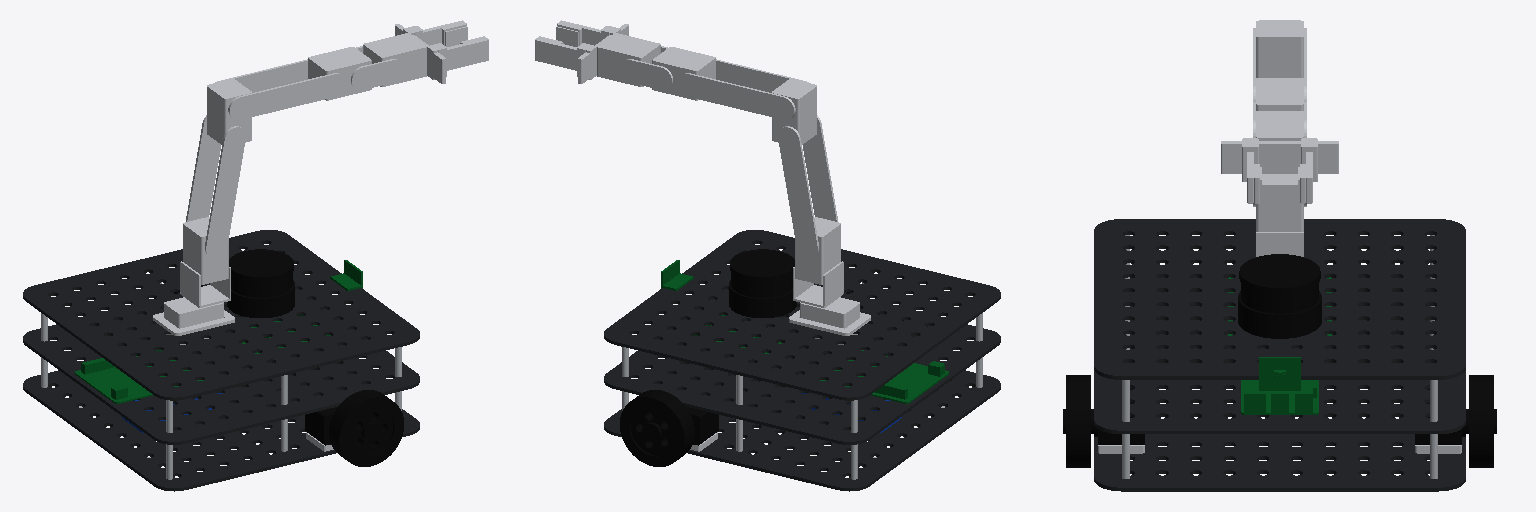
The robot description file, URDF, robot "turtlebot3_manipulation":
<?xml version="1.0"?>
<!--
  Mobile Manipulator: TurtleBot3 Waffle Pi + OpenMANIPULATOR-X
  Generated from the parametric SolidWorks 2025 model by tools/gen_urdf.py.
  Kinematics, joint limits, link/joint names and inertials are identical to the official
  ROBOTIS turtlebot3_manipulation_description (ROS 2 Humble); the meshes come from the
  parametric SolidWorks parts in 01_SolidWorks_2025.
-->
<robot name="turtlebot3_manipulation">
  <material name="frame"><color rgba="0.800 0.810 0.830 1"/></material>
  <material name="plate"><color rgba="0.160 0.170 0.180 1"/></material>
  <material name="pcb"><color rgba="0.050 0.380 0.160 1"/></material>
  <material name="blue"><color rgba="0.100 0.280 0.650 1"/></material>
  <material name="rubber"><color rgba="0.070 0.070 0.070 1"/></material>
  <material name="alu"><color rgba="0.720 0.740 0.760 1"/></material>

  <link name="base_footprint"/>

  <joint name="base_joint" type="fixed">
    <parent link="base_footprint"/>
    <child link="base_link"/>
    <origin xyz="0 0 0.01" rpy="0 0 0"/>
  </joint>

  <link name="base_link">
    <visual>
      <origin xyz="0 0 0" rpy="0 0 0"/>
      <geometry><mesh filename="package://tb3_omx_description/meshes/tb01_waffle_plate.stl"/></geometry>
      <material name="plate"/>
    </visual>
    <visual>
      <origin xyz="0 0 0.045" rpy="0 0 0"/>
      <geometry><mesh filename="package://tb3_omx_description/meshes/tb01_waffle_plate.stl"/></geometry>
      <material name="plate"/>
    </visual>
    <visual>
      <origin xyz="0 0 0.088" rpy="0 0 0"/>
      <geometry><mesh filename="package://tb3_omx_description/meshes/tb02_waffle_plate_top.stl"/></geometry>
      <material name="plate"/>
    </visual>
    <visual>
      <origin xyz="-0.18 -0.11 0.003" rpy="0 0 0"/>
      <geometry><mesh filename="package://tb3_omx_description/meshes/tb03_pcb_support_42.stl"/></geometry>
      <material name="alu"/>
    </visual>
    <visual>
      <origin xyz="-0.18 0.11 0.003" rpy="0 0 0"/>
      <geometry><mesh filename="package://tb3_omx_description/meshes/tb03_pcb_support_42.stl"/></geometry>
      <material name="alu"/>
    </visual>
    <visual>
      <origin xyz="-0.064 -0.11 0.003" rpy="0 0 0"/>
      <geometry><mesh filename="package://tb3_omx_description/meshes/tb03_pcb_support_42.stl"/></geometry>
      <material name="alu"/>
    </visual>
    <visual>
      <origin xyz="-0.064 0.11 0.003" rpy="0 0 0"/>
      <geometry><mesh filename="package://tb3_omx_description/meshes/tb03_pcb_support_42.stl"/></geometry>
      <material name="alu"/>
    </visual>
    <visual>
      <origin xyz="0.052 -0.11 0.003" rpy="0 0 0"/>
      <geometry><mesh filename="package://tb3_omx_description/meshes/tb03_pcb_support_42.stl"/></geometry>
      <material name="alu"/>
    </visual>
    <visual>
      <origin xyz="0.052 0.11 0.003" rpy="0 0 0"/>
      <geometry><mesh filename="package://tb3_omx_description/meshes/tb03_pcb_support_42.stl"/></geometry>
      <material name="alu"/>
    </visual>
    <visual>
      <origin xyz="-0.18 -0.11 0.048" rpy="0 0 0"/>
      <geometry><mesh filename="package://tb3_omx_description/meshes/tb04_pcb_support_40.stl"/></geometry>
      <material name="alu"/>
    </visual>
    <visual>
      <origin xyz="-0.18 0.11 0.048" rpy="0 0 0"/>
      <geometry><mesh filename="package://tb3_omx_description/meshes/tb04_pcb_support_40.stl"/></geometry>
      <material name="alu"/>
    </visual>
    <visual>
      <origin xyz="-0.064 -0.11 0.048" rpy="0 0 0"/>
      <geometry><mesh filename="package://tb3_omx_description/meshes/tb04_pcb_support_40.stl"/></geometry>
      <material name="alu"/>
    </visual>
    <visual>
      <origin xyz="-0.064 0.11 0.048" rpy="0 0 0"/>
      <geometry><mesh filename="package://tb3_omx_description/meshes/tb04_pcb_support_40.stl"/></geometry>
      <material name="alu"/>
    </visual>
    <visual>
      <origin xyz="0.052 -0.11 0.048" rpy="0 0 0"/>
      <geometry><mesh filename="package://tb3_omx_description/meshes/tb04_pcb_support_40.stl"/></geometry>
      <material name="alu"/>
    </visual>
    <visual>
      <origin xyz="0.052 0.11 0.048" rpy="0 0 0"/>
      <geometry><mesh filename="package://tb3_omx_description/meshes/tb04_pcb_support_40.stl"/></geometry>
      <material name="alu"/>
    </visual>
    <visual>
      <origin xyz="-0.012 0.1135 0.023" rpy="-1.570796 0 0"/>
      <geometry><mesh filename="package://tb3_omx_description/meshes/tb05_dynamixel_xm430_w210.stl"/></geometry>
      <material name="rubber"/>
    </visual>
    <visual>
      <origin xyz="-0.012 -0.1135 0.023" rpy="1.570796 0 0"/>
      <geometry><mesh filename="package://tb3_omx_description/meshes/tb05_dynamixel_xm430_w210.stl"/></geometry>
      <material name="rubber"/>
    </visual>
    <visual>
      <origin xyz="-0.012 0.1135 0.003" rpy="0 0 0"/>
      <geometry><mesh filename="package://tb3_omx_description/meshes/tb06_motor_bracket.stl"/></geometry>
      <material name="frame"/>
    </visual>
    <visual>
      <origin xyz="-0.012 -0.1135 0.003" rpy="0 0 0"/>
      <geometry><mesh filename="package://tb3_omx_description/meshes/tb06_motor_bracket.stl"/></geometry>
      <material name="frame"/>
    </visual>
    <visual>
      <origin xyz="-0.11 0 0.003" rpy="0 0 0"/>
      <geometry><mesh filename="package://tb3_omx_description/meshes/tb07_lipo_battery.stl"/></geometry>
      <material name="blue"/>
    </visual>
    <visual>
      <origin xyz="-0.14 0 0.048" rpy="0 0 0"/>
      <geometry><mesh filename="package://tb3_omx_description/meshes/tb08_opencr_board.stl"/></geometry>
      <material name="pcb"/>
    </visual>
    <visual>
      <origin xyz="0 0 0.048" rpy="0 0 0"/>
      <geometry><mesh filename="package://tb3_omx_description/meshes/tb09_raspberry_pi_4.stl"/></geometry>
      <material name="pcb"/>
    </visual>
    <visual>
      <origin xyz="-0.177 0.064 0" rpy="0 0 0"/>
      <geometry><mesh filename="package://tb3_omx_description/meshes/tb10_ball_caster.stl"/></geometry>
      <material name="alu"/>
    </visual>
    <visual>
      <origin xyz="-0.177 -0.064 0" rpy="0 0 0"/>
      <geometry><mesh filename="package://tb3_omx_description/meshes/tb10_ball_caster.stl"/></geometry>
      <material name="alu"/>
    </visual>
    <visual>
      <origin xyz="0 0 0" rpy="0 0 0"/>
      <geometry><mesh filename="package://tb3_omx_description/meshes/tb11_pi_camera.stl"/></geometry>
      <material name="pcb"/>
    </visual>
    <collision>
      <origin xyz="-0.064 0 0.047" rpy="0 0 0"/>
      <geometry><box size="0.266 0.266 0.094"/></geometry>
    </collision>
    <inertial>
      <origin xyz="0 0 0" rpy="0 0 0"/>
      <mass value="1.37291"/>
      <inertia ixx="0.00870027" ixy="-4.75766e-05" ixz="0.000111605" iyy="0.00861954" iyz="-3.54223e-06" izz="0.0146127"/>
    </inertial>
  </link>

  <joint name="wheel_left_joint" type="continuous">
    <parent link="base_link"/>
    <child link="wheel_left_link"/>
    <origin xyz="0 0.144 0.023" rpy="-1.57 0 0"/>
    <axis xyz="0 0 1"/>
  </joint>

  <link name="wheel_left_link">
    <visual>
      <origin xyz="0 0 0" rpy="0 0 0"/>
      <geometry><mesh filename="package://tb3_omx_description/meshes/tb13_wheel.stl"/></geometry>
      <material name="rubber"/>
    </visual>
    <collision>
      <origin xyz="0 0 0" rpy="0 0 0"/>
      <geometry><cylinder length="0.018" radius="0.033"/></geometry>
    </collision>
    <inertial>
      <origin xyz="0 0 0" rpy="0 0 0"/>
      <mass value="0.0284989"/>
      <inertia ixx="1.11756e-05" ixy="-4.23698e-11" ixz="-5.93817e-09" iyy="1.11924e-05" iyz="-1.44001e-11" izz="2.07126e-05"/>
    </inertial>
  </link>

  <joint name="wheel_right_joint" type="continuous">
    <parent link="base_link"/>
    <child link="wheel_right_link"/>
    <origin xyz="0 -0.144 0.023" rpy="-1.57 0 0"/>
    <axis xyz="0 0 1"/>
  </joint>

  <link name="wheel_right_link">
    <visual>
      <origin xyz="0 0 0" rpy="0 0 0"/>
      <geometry><mesh filename="package://tb3_omx_description/meshes/tb13_wheel.stl"/></geometry>
      <material name="rubber"/>
    </visual>
    <collision>
      <origin xyz="0 0 0" rpy="0 0 0"/>
      <geometry><cylinder length="0.018" radius="0.033"/></geometry>
    </collision>
    <inertial>
      <origin xyz="0 0 0" rpy="0 0 0"/>
      <mass value="0.0284989"/>
      <inertia ixx="1.11756e-05" ixy="-4.23698e-11" ixz="-5.93817e-09" iyy="1.11924e-05" iyz="-1.44001e-11" izz="2.07126e-05"/>
    </inertial>
  </link>

  <joint name="caster_back_right_joint" type="fixed">
    <parent link="base_link"/>
    <child link="caster_back_right_link"/>
    <origin xyz="-0.177 -0.064 -0.004" rpy="-1.57 0 0"/>
  </joint>

  <link name="caster_back_right_link">
    <collision>
      <origin xyz="0 0.001 0" rpy="0 0 0"/>
      <geometry><box size="0.030 0.009 0.020"/></geometry>
    </collision>
    <inertial>
      <origin xyz="0 0 0" rpy="0 0 0"/>
      <mass value="0.005"/>
      <inertia ixx="0.001" ixy="0" ixz="0" iyy="0.001" iyz="0" izz="0.001"/>
    </inertial>
  </link>

  <joint name="caster_back_left_joint" type="fixed">
    <parent link="base_link"/>
    <child link="caster_back_left_link"/>
    <origin xyz="-0.177 0.064 -0.004" rpy="-1.57 0 0"/>
  </joint>

  <link name="caster_back_left_link">
    <collision>
      <origin xyz="0 0.001 0" rpy="0 0 0"/>
      <geometry><box size="0.030 0.009 0.020"/></geometry>
    </collision>
    <inertial>
      <origin xyz="0 0 0" rpy="0 0 0"/>
      <mass value="0.005"/>
      <inertia ixx="0.001" ixy="0" ixz="0" iyy="0.001" iyz="0" izz="0.001"/>
    </inertial>
  </link>

  <joint name="imu_joint" type="fixed">
    <parent link="base_link"/>
    <child link="imu_link"/>
    <origin xyz="0 0 0.068" rpy="0 0 0"/>
  </joint>

  <link name="imu_link"/>

  <joint name="scan_joint" type="fixed">
    <parent link="base_link"/>
    <child link="base_scan"/>
    <origin xyz="-0.024 0 0.122" rpy="0 0 0"/>
  </joint>

  <link name="base_scan">
    <visual>
      <origin xyz="0 0 0" rpy="0 0 0"/>
      <geometry><mesh filename="package://tb3_omx_description/meshes/tb12_lds01_lidar.stl"/></geometry>
      <material name="rubber"/>
    </visual>
    <collision>
      <origin xyz="0 0 -0.01125" rpy="0 0 0"/>
      <geometry><cylinder length="0.0395" radius="0.030"/></geometry>
    </collision>
    <inertial>
      <origin xyz="0 0 0" rpy="0 0 0"/>
      <mass value="0.114"/>
      <inertia ixx="0.001" ixy="0" ixz="0" iyy="0.001" iyz="0" izz="0.001"/>
    </inertial>
  </link>

  <joint name="camera_joint" type="fixed">
    <parent link="base_link"/>
    <child link="camera_link"/>
    <origin xyz="0.073 -0.011 0.084" rpy="0 0 0"/>
  </joint>

  <link name="camera_link">
    <collision>
      <origin xyz="0.005 0.011 0.013" rpy="0 0 0"/>
      <geometry><box size="0.015 0.030 0.027"/></geometry>
    </collision>
  </link>

  <joint name="camera_rgb_joint" type="fixed">
    <parent link="camera_link"/>
    <child link="camera_rgb_frame"/>
    <origin xyz="0.003 0.011 0.009" rpy="0 0 0"/>
  </joint>

  <link name="camera_rgb_frame"/>

  <joint name="camera_rgb_optical_joint" type="fixed">
    <parent link="camera_rgb_frame"/>
    <child link="camera_rgb_optical_frame"/>
    <origin xyz="0 0 0" rpy="-1.57 0 -1.57"/>
  </joint>

  <link name="camera_rgb_optical_frame"/>

  <joint name="base_fixed" type="fixed">
    <parent link="base_link"/>
    <child link="link1"/>
    <origin xyz="-0.092 0 0.091" rpy="0 0 0"/>
  </joint>

  <link name="link1">
    <visual>
      <origin xyz="0 0 0" rpy="0 0 0"/>
      <geometry><mesh filename="package://tb3_omx_description/meshes/om01_link1.stl"/></geometry>
      <material name="frame"/>
    </visual>
    <collision>
      <origin xyz="0 0 0" rpy="0 0 0"/>
      <geometry><mesh filename="package://tb3_omx_description/meshes/om01_link1.stl"/></geometry>
    </collision>
    <inertial>
      <origin xyz="0.000309 0 -0.000122" rpy="0 0 0"/>
      <mass value="0.07912"/>
      <inertia ixx="1.25052e-05" ixy="0" ixz="-1.78552e-07" iyy="2.18984e-05" iyz="0" izz="1.92674e-05"/>
    </inertial>
  </link>

  <joint name="joint1" type="revolute">
    <parent link="link1"/>
    <child link="link2"/>
    <origin xyz="0.012 0 0.017" rpy="0 0 0"/>
    <axis xyz="0 0 1"/>
    <limit velocity="4.8" effort="1" lower="-2.827433" upper="2.827433"/>
    <dynamics damping="0.1"/>
  </joint>

  <link name="link2">
    <visual>
      <origin xyz="0 0 0" rpy="0 0 0"/>
      <geometry><mesh filename="package://tb3_omx_description/meshes/om02_link2.stl"/></geometry>
      <material name="frame"/>
    </visual>
    <collision>
      <origin xyz="0 0 0" rpy="0 0 0"/>
      <geometry><mesh filename="package://tb3_omx_description/meshes/om02_link2.stl"/></geometry>
    </collision>
    <inertial>
      <origin xyz="-0.000302 0.00054 0.047433" rpy="0 0 0"/>
      <mass value="0.0984068"/>
      <inertia ixx="3.45434e-05" ixy="-1.60311e-08" ixz="-3.83752e-07" iyy="3.26893e-05" iyz="2.85119e-08" izz="1.88503e-05"/>
    </inertial>
  </link>

  <joint name="joint2" type="revolute">
    <parent link="link2"/>
    <child link="link3"/>
    <origin xyz="0 0 0.0595" rpy="0 0 0"/>
    <axis xyz="0 1 0"/>
    <limit velocity="4.8" effort="1" lower="-1.790708" upper="1.570796"/>
    <dynamics damping="0.1"/>
  </joint>

  <link name="link3">
    <visual>
      <origin xyz="0 0 0" rpy="0 0 0"/>
      <geometry><mesh filename="package://tb3_omx_description/meshes/om03_link3.stl"/></geometry>
      <material name="frame"/>
    </visual>
    <collision>
      <origin xyz="0 0 0" rpy="0 0 0"/>
      <geometry><mesh filename="package://tb3_omx_description/meshes/om03_link3.stl"/></geometry>
    </collision>
    <inertial>
      <origin xyz="0.010308 0.000377 0.101702" rpy="0 0 0"/>
      <mass value="0.138509"/>
      <inertia ixx="0.000330554" ixy="-9.7941e-08" ixz="-3.85057e-05" iyy="0.000342904" iyz="-1.57175e-06" izz="6.03465e-05"/>
    </inertial>
  </link>

  <joint name="joint3" type="revolute">
    <parent link="link3"/>
    <child link="link4"/>
    <origin xyz="0.024 0 0.128" rpy="0 0 0"/>
    <axis xyz="0 1 0"/>
    <limit velocity="4.8" effort="1" lower="-0.942478" upper="1.382301"/>
    <dynamics damping="0.1"/>
  </joint>

  <link name="link4">
    <visual>
      <origin xyz="0 0 0" rpy="0 0 0"/>
      <geometry><mesh filename="package://tb3_omx_description/meshes/om04_link4.stl"/></geometry>
      <material name="frame"/>
    </visual>
    <collision>
      <origin xyz="0 0 0" rpy="0 0 0"/>
      <geometry><mesh filename="package://tb3_omx_description/meshes/om04_link4.stl"/></geometry>
    </collision>
    <inertial>
      <origin xyz="0.09091 0.000389 0.000224" rpy="0 0 0"/>
      <mass value="0.132746"/>
      <inertia ixx="3.06542e-05" ixy="-1.27642e-06" ixz="-2.68744e-07" iyy="0.000242303" iyz="1.15595e-08" izz="0.000251551"/>
    </inertial>
  </link>

  <joint name="joint4" type="revolute">
    <parent link="link4"/>
    <child link="link5"/>
    <origin xyz="0.124 0 0" rpy="0 0 0"/>
    <axis xyz="0 1 0"/>
    <limit velocity="4.8" effort="1" lower="-1.790708" upper="2.042035"/>
    <dynamics damping="0.1"/>
  </joint>

  <link name="link5">
    <visual>
      <origin xyz="0 0 0" rpy="0 0 0"/>
      <geometry><mesh filename="package://tb3_omx_description/meshes/om05_link5.stl"/></geometry>
      <material name="frame"/>
    </visual>
    <collision>
      <origin xyz="0 0 0" rpy="0 0 0"/>
      <geometry><mesh filename="package://tb3_omx_description/meshes/om05_link5.stl"/></geometry>
    </collision>
    <inertial>
      <origin xyz="0.044207 0 0.008914" rpy="0 0 0"/>
      <mass value="0.143276"/>
      <inertia ixx="8.08707e-05" ixy="0" ixz="-1.01579e-06" iyy="7.59805e-05" iyz="0" izz="9.31274e-05"/>
    </inertial>
  </link>

  <joint name="gripper_left_joint" type="prismatic">
    <parent link="link5"/>
    <child link="gripper_left_link"/>
    <origin xyz="0.0817 0.021 0" rpy="0 0 0"/>
    <axis xyz="0 1 0"/>
    <limit velocity="4.8" effort="1" lower="-0.01" upper="0.019"/>
    <dynamics damping="0.1"/>
  </joint>

  <link name="gripper_left_link">
    <visual>
      <origin xyz="0 0 0" rpy="0 0 0"/>
      <geometry><mesh filename="package://tb3_omx_description/meshes/om06_gripper_finger.stl"/></geometry>
      <material name="frame"/>
    </visual>
    <collision>
      <origin xyz="0 0 0" rpy="0 0 0"/>
      <geometry><mesh filename="package://tb3_omx_description/meshes/om06_gripper_finger.stl"/></geometry>
    </collision>
    <inertial>
      <origin xyz="0 0 0" rpy="0 0 0"/>
      <mass value="0.001"/>
      <inertia ixx="1e-06" ixy="0" ixz="0" iyy="1e-06" iyz="0" izz="1e-06"/>
    </inertial>
  </link>

  <joint name="gripper_right_joint_mimic" type="fixed">
    <parent link="link5"/>
    <child link="dummy_mimic_fix"/>
  </joint>
  <link name="dummy_mimic_fix"/>

  <joint name="gripper_right_joint" type="prismatic">
    <parent link="link5"/>
    <child link="gripper_right_link"/>
    <origin xyz="0.0817 -0.021 0" rpy="0 0 0"/>
    <axis xyz="0 -1 0"/>
    <limit velocity="4.8" effort="1" lower="-0.01" upper="0.019"/>
    <mimic joint="gripper_left_joint" multiplier="1"/>
    <dynamics damping="0.1"/>
  </joint>

  <link name="gripper_right_link">
    <visual>
      <origin xyz="0 0 0" rpy="3.141593 0 0"/>
      <geometry><mesh filename="package://tb3_omx_description/meshes/om06_gripper_finger.stl"/></geometry>
      <material name="frame"/>
    </visual>
    <collision>
      <origin xyz="0 0 0" rpy="3.141593 0 0"/>
      <geometry><mesh filename="package://tb3_omx_description/meshes/om06_gripper_finger.stl"/></geometry>
    </collision>
    <inertial>
      <origin xyz="0 0 0" rpy="0 0 0"/>
      <mass value="0.001"/>
      <inertia ixx="1e-06" ixy="0" ixz="0" iyy="1e-06" iyz="0" izz="1e-06"/>
    </inertial>
  </link>

  <joint name="end_effector_joint" type="fixed">
    <parent link="link5"/>
    <child link="end_effector_link"/>
    <origin xyz="0.126 0 0" rpy="0 0 0"/>
  </joint>

  <link name="end_effector_link"/>

</robot>

--- What the picture shows (computed from the rendered views, not written in the file) ---
Views: 3 orthographic renders of the robot side by side, from view 1: azimuth 30°, elevation 25°; view 2: azimuth 150°, elevation 25°; view 3: azimuth 270°, elevation 25°.
Model turtlebot3_manipulation with 20 links and 19 joints (4 revolute, 2 continuous, 2 prismatic, 11 fixed), rooted at base_footprint, posed all joints at 0.
Visible links, largest first — view 1: base_link, link3, link4, wheel_right_link, base_scan, link5, link2, link1, gripper_right_link, gripper_left_link; view 2: base_link, link3, link4, wheel_left_link, base_scan, link5, link2, link1, gripper_left_link, gripper_right_link; view 3: base_link, base_scan, link5, link2, link3, wheel_left_link, wheel_right_link, link4, gripper_left_link, gripper_right_link.
Boxes of the visible links, <box> form: base_link: <box>23,230,419,491</box>; link3: <box>186,79,251,257</box>; link4: <box>215,47,371,119</box>; wheel_right_link: <box>329,390,403,466</box>; base_scan: <box>227,249,294,317</box>; link5: <box>351,24,445,90</box>; link2: <box>180,217,230,307</box>; link1: <box>153,297,234,344</box>; gripper_right_link: <box>427,36,488,79</box>; gripper_left_link: <box>403,20,467,46</box>; base_link: <box>604,230,1000,491</box>; link3: <box>772,79,837,257</box>; link4: <box>652,47,808,119</box>; wheel_left_link: <box>620,390,694,466</box>; base_scan: <box>729,249,796,317</box>; link5: <box>578,24,672,90</box>; link2: <box>793,217,843,307</box>; link1: <box>789,297,870,344</box>; gripper_left_link: <box>535,36,596,79</box>; gripper_right_link: <box>556,20,620,46</box>; base_link: <box>1094,219,1465,491</box>; base_scan: <box>1238,254,1321,338</box>; link5: <box>1221,101,1338,173</box>; link2: <box>1256,174,1303,256</box>; link3: <box>1253,20,1306,206</box>; wheel_left_link: <box>1466,375,1496,467</box>; wheel_right_link: <box>1063,375,1093,467</box>; link4: <box>1253,28,1306,110</box>; gripper_left_link: <box>1298,138,1317,203</box>; gripper_right_link: <box>1242,138,1261,203</box>.
Size in the robot's own frame: 0.391 by 0.31 by 0.3198 metres.
35 mesh visuals loaded from 19 distinct referenced files (19 binary STL).
